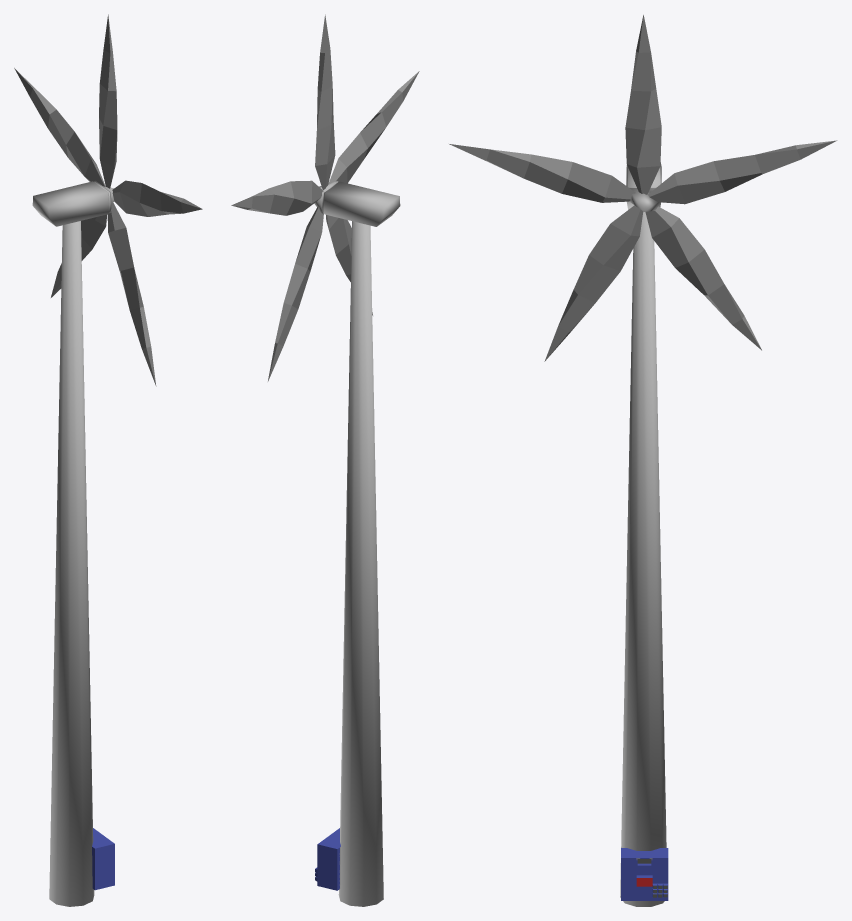
File: fanAnimated3.fbx
The picture shows the model from 3 angles, left to right: view 1: azimuth 30°, elevation 25°; view 2: azimuth 150°, elevation 25°; view 3: azimuth 270°, elevation 25°; orthographic projection. The views are drawn at different scales.
Visible parts, largest first — view 1: fanPole, fanBlades; view 2: fanPole, fanBlades; view 3: fanPole, fanBlades.
Boxes of the visible parts, x1,y1,x2,y2 form: fanPole: (32,181,114,906); fanBlades: (14,14,202,386); fanPole: (314,181,400,906); fanBlades: (231,14,419,381); fanPole: (620,162,668,906); fanBlades: (449,15,837,361).
Bounding box in the file's own units: 849 × 8086 × 3167.
2 materials, 2 textured.
